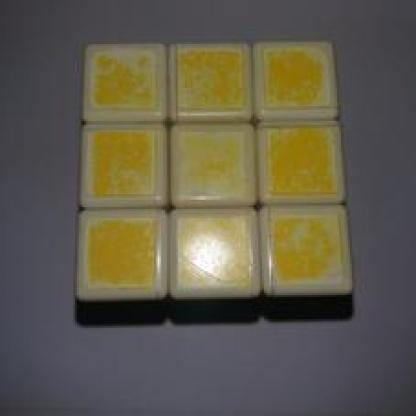cube: (73, 29, 361, 346)
